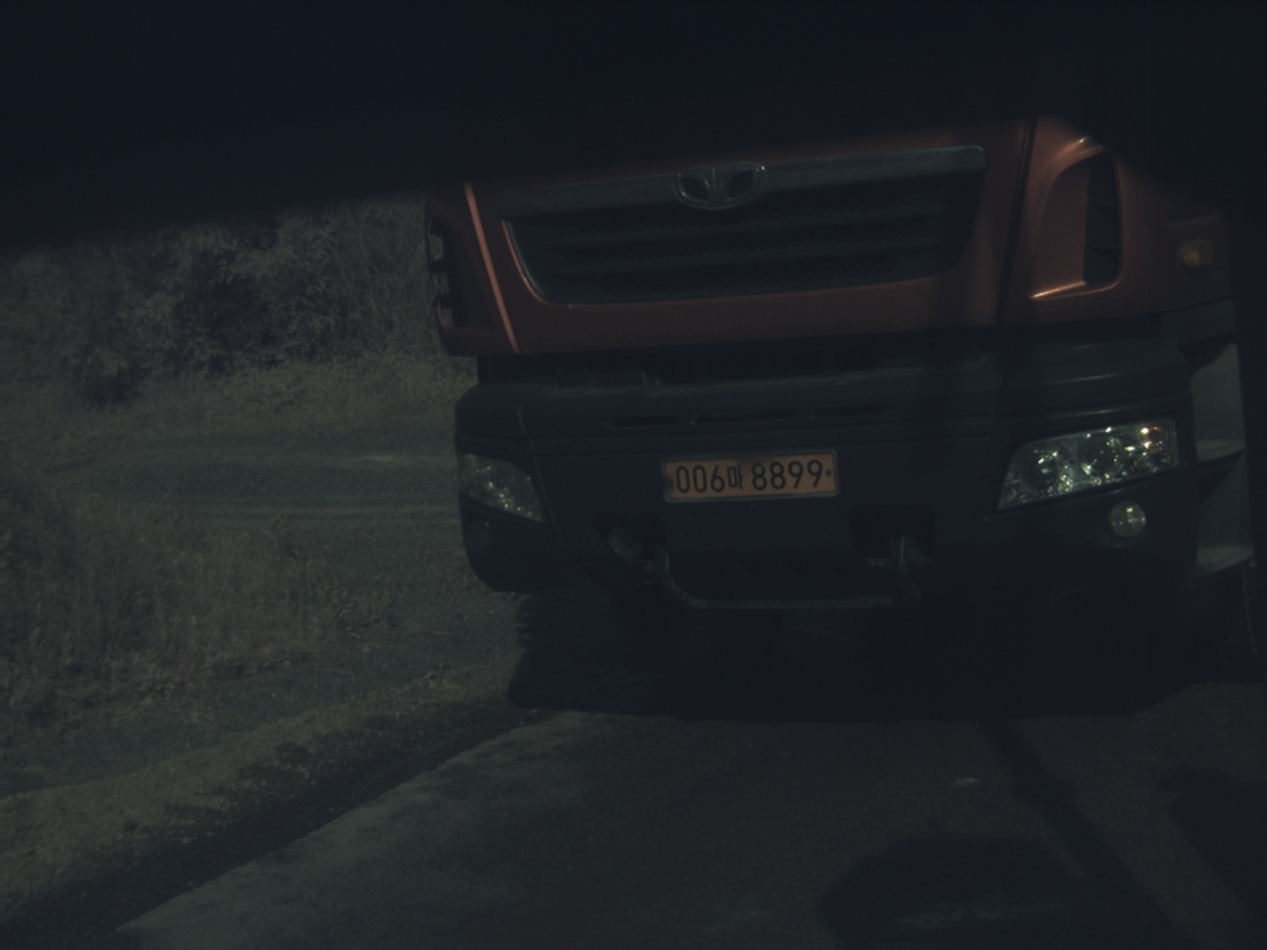license_plate: (663, 451, 836, 501)
truck: (428, 117, 1252, 607)
